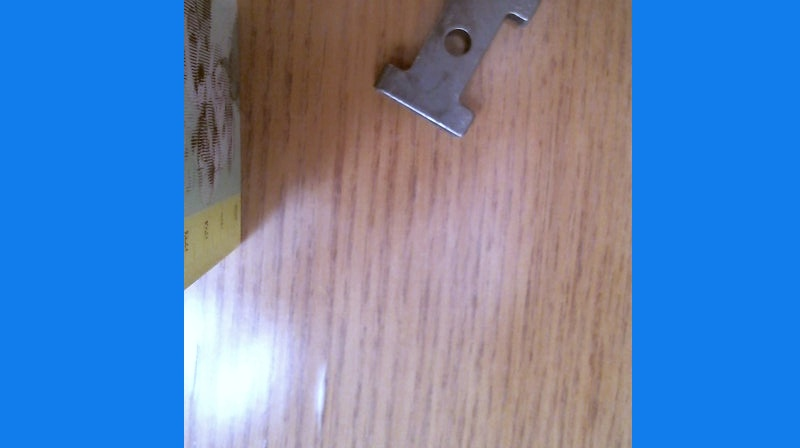O002: (370, 0, 545, 143)
